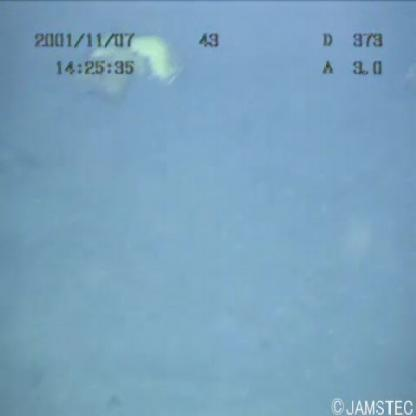Rác: (74, 25, 172, 100)
